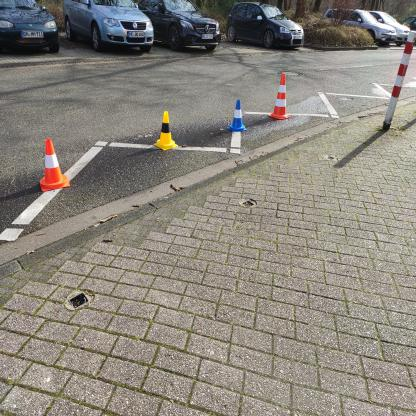Cones_big: (269, 65, 292, 123)
Cones_small_blue: (228, 96, 252, 136)
Cones_small_orange: (30, 132, 75, 196)
Cones_small_yellow: (145, 99, 179, 155)
